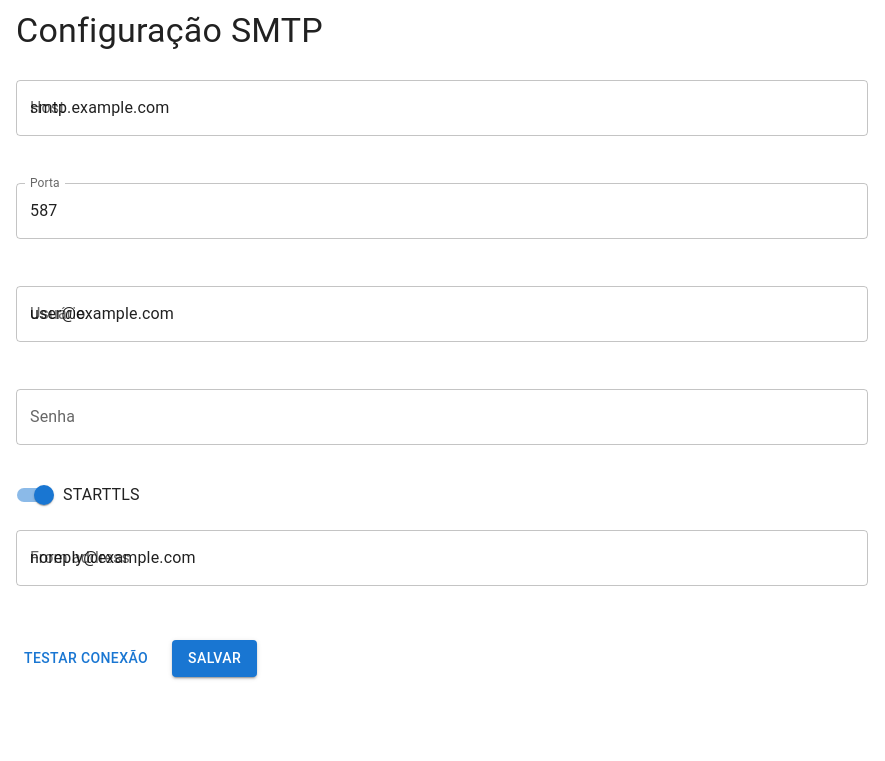
SmtpConfigPage › SMTP_TEST_FAILED: Testar conexao 400 exibe alert com mensagem do backend
Click the button "Testar conexão".
click(86, 659)  # box [16,640,156,677]
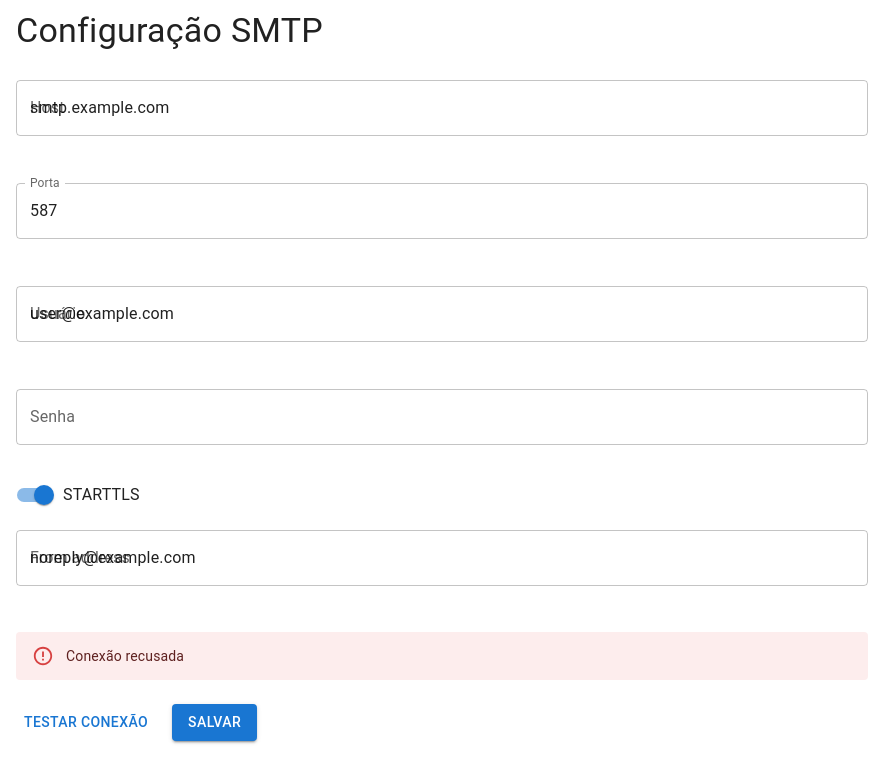
Expected: the text "Conexão recusada" is shown, [66,648,184,664]
